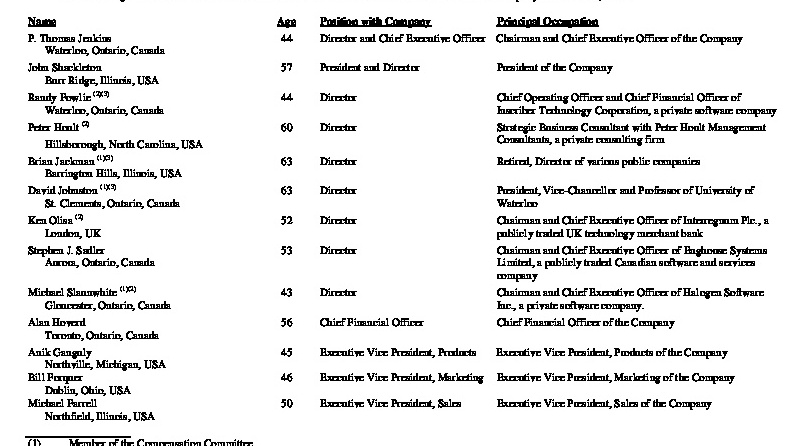table: (0, 0, 800, 446)
